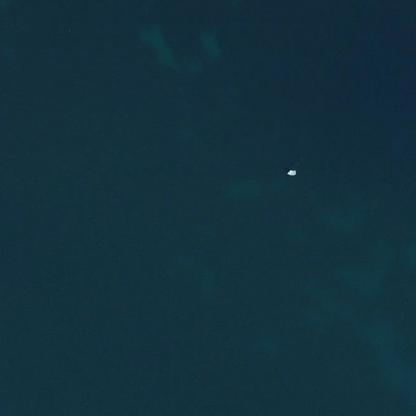ship: (286, 1, 297, 10)
